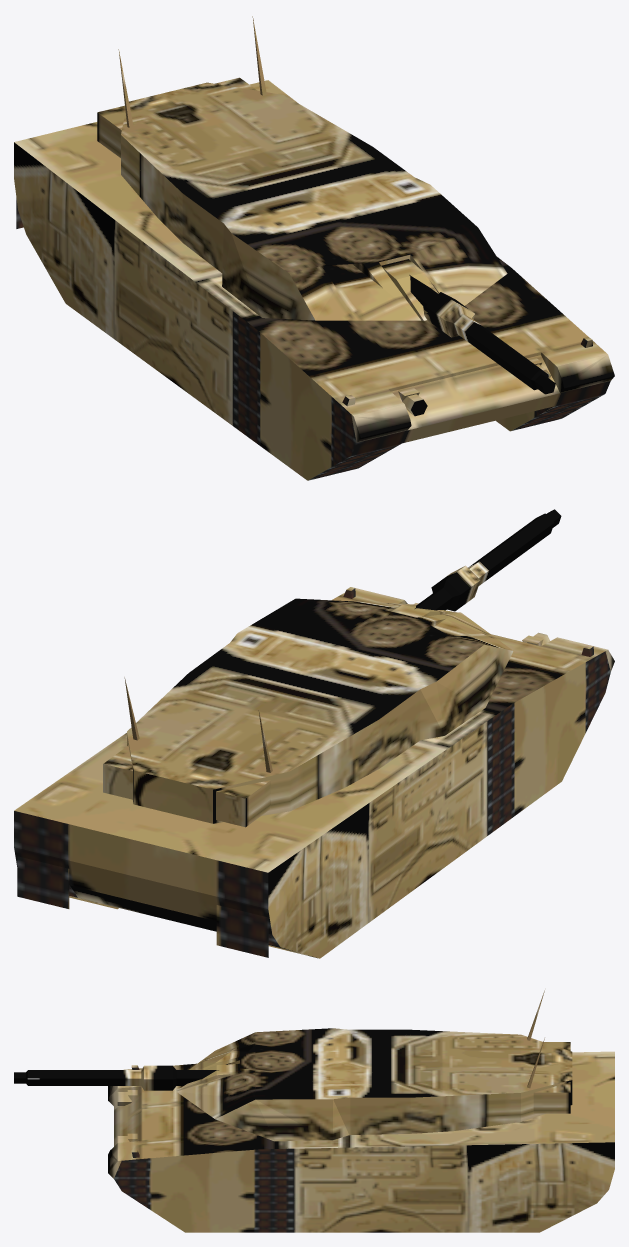
Rendered from Leopard.dae.
3 renders of one model, top to bottom at view 1: azimuth 30°, elevation 25°; view 2: azimuth 150°, elevation 25°; view 3: azimuth 270°, elevation 25°, orthographic. The views are drawn at different scales.
Parts seen in each view (by area): view 1: Hull, Turret, Barrel; view 2: Hull, Turret, Barrel; view 3: Hull, Turret, Barrel.
Part boxes in pixels (left/top/right/bottom): Hull: left=14, top=80, right=614, bottom=480; Turret: left=97, top=16, right=507, bottom=320; Barrel: left=409, top=275, right=555, bottom=394; Hull: left=14, top=587, right=614, bottom=958; Turret: left=103, top=598, right=513, bottom=827; Barrel: left=415, top=509, right=561, bottom=611; Hull: left=108, top=1051, right=614, bottom=1232; Turret: left=176, top=990, right=572, bottom=1141; Barrel: left=14, top=1065, right=218, bottom=1090.
Bounding box in the file's own units: 1.09 × 3.05 × 0.9813.
3 materials, 3 textured.
